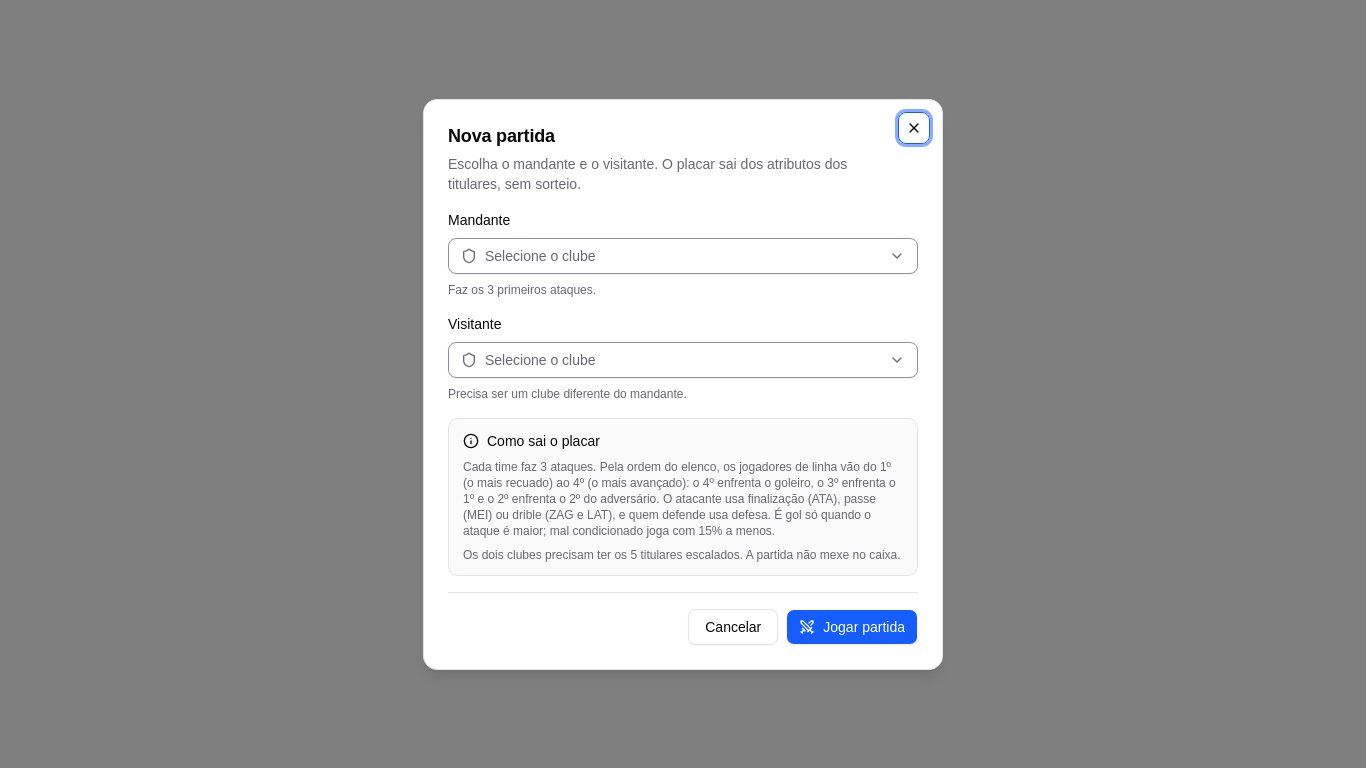
NewMatchDialog › marca só o mandante quando a escalação dele está incompleta
Click the dropdown named "Mandante".
click(540, 256)  # box [448,238,918,274]
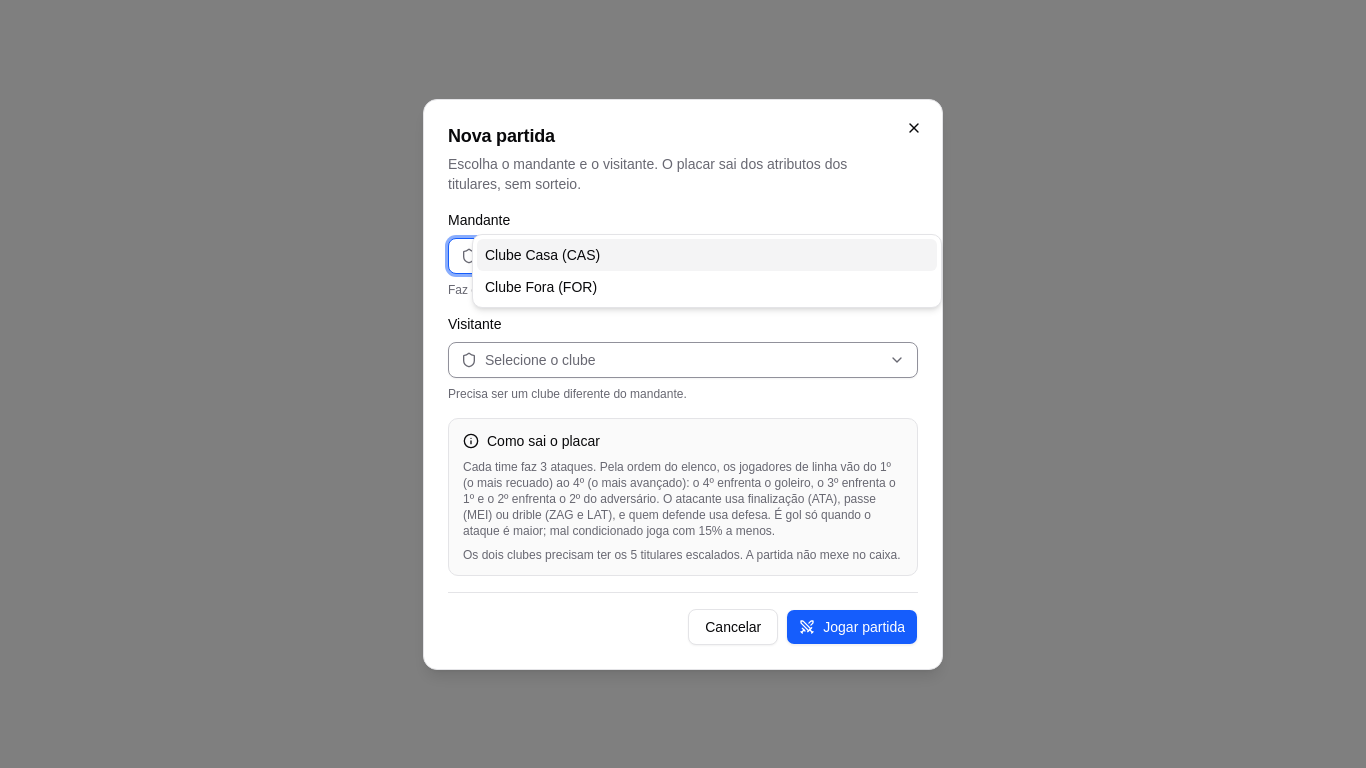
Click the option "Clube Casa (CAS)".
click(522, 254)  # box [477,238,937,270]
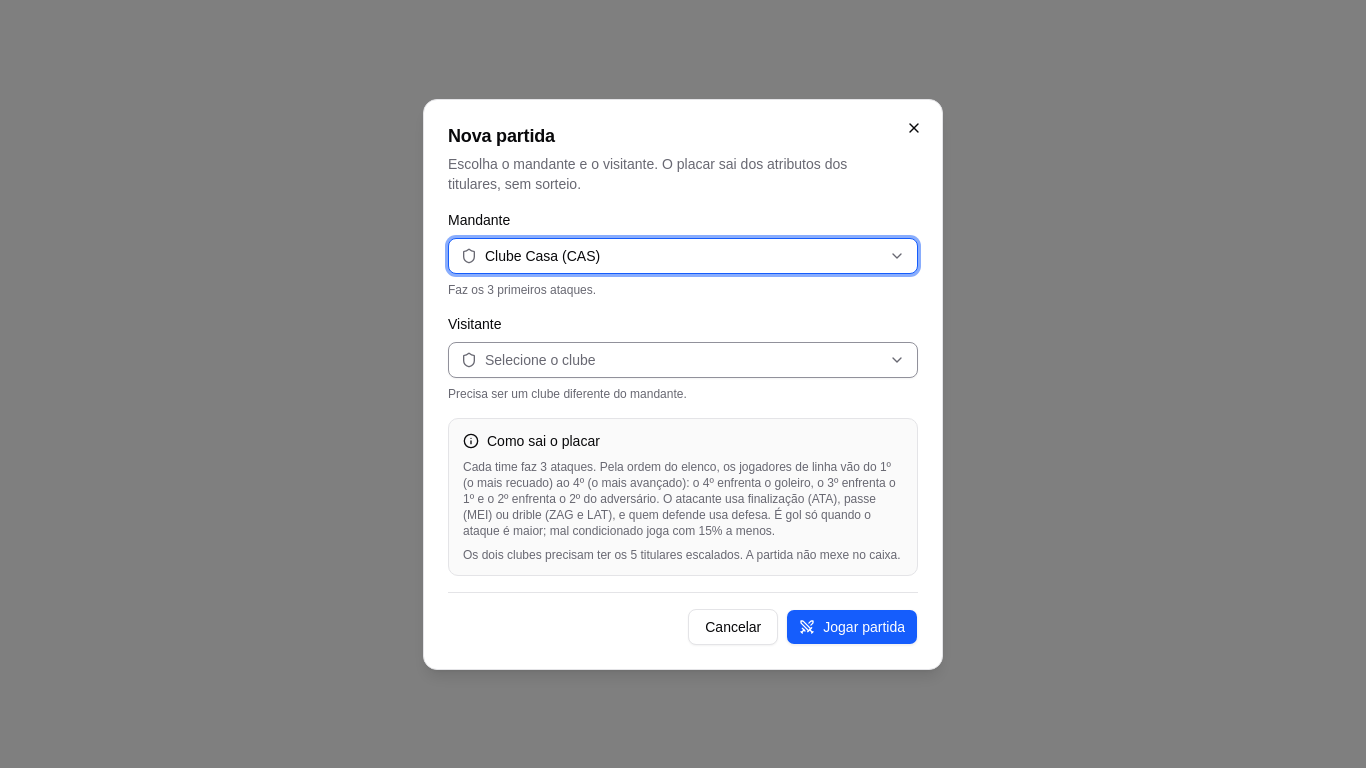
Click the dropdown named "Visitante".
click(540, 360)  # box [448,342,918,378]
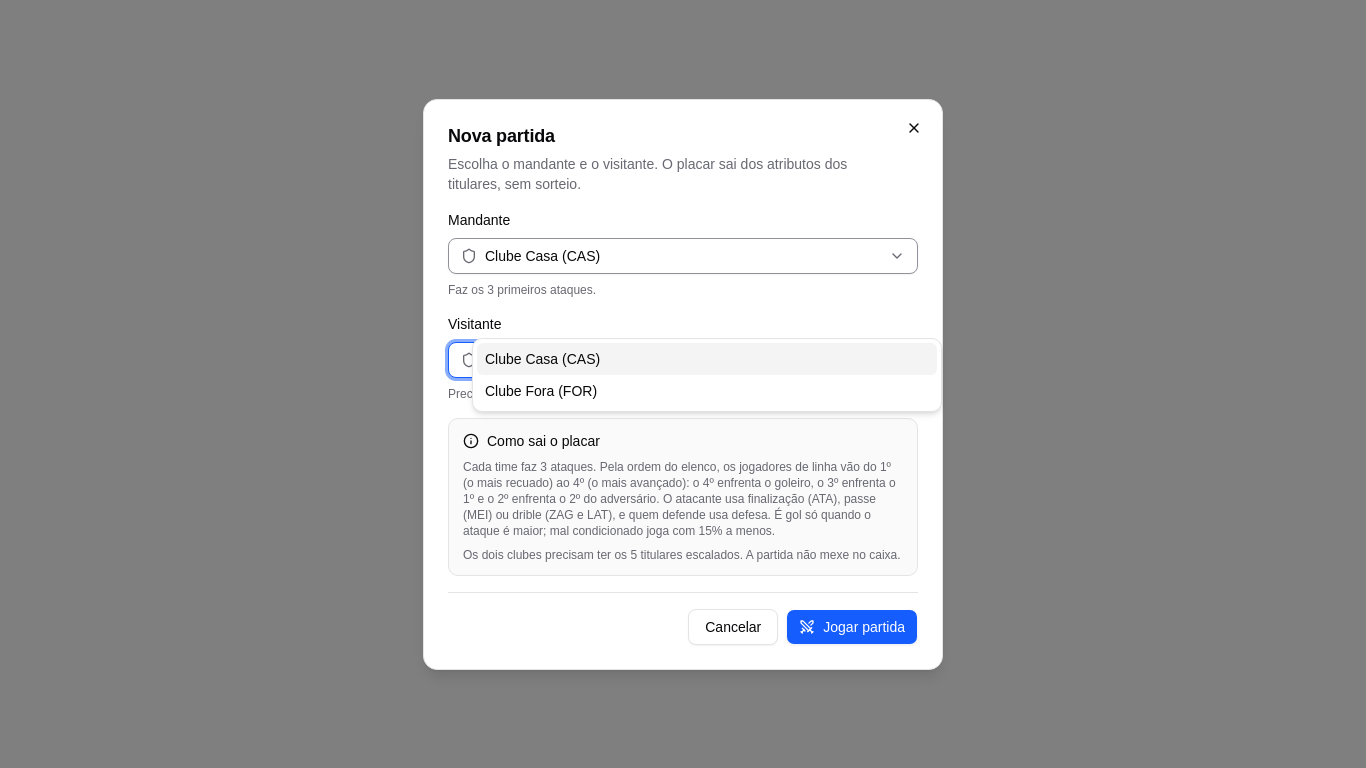
Click the option "Clube Fora (FOR)".
click(541, 390)  # box [485,382,597,398]
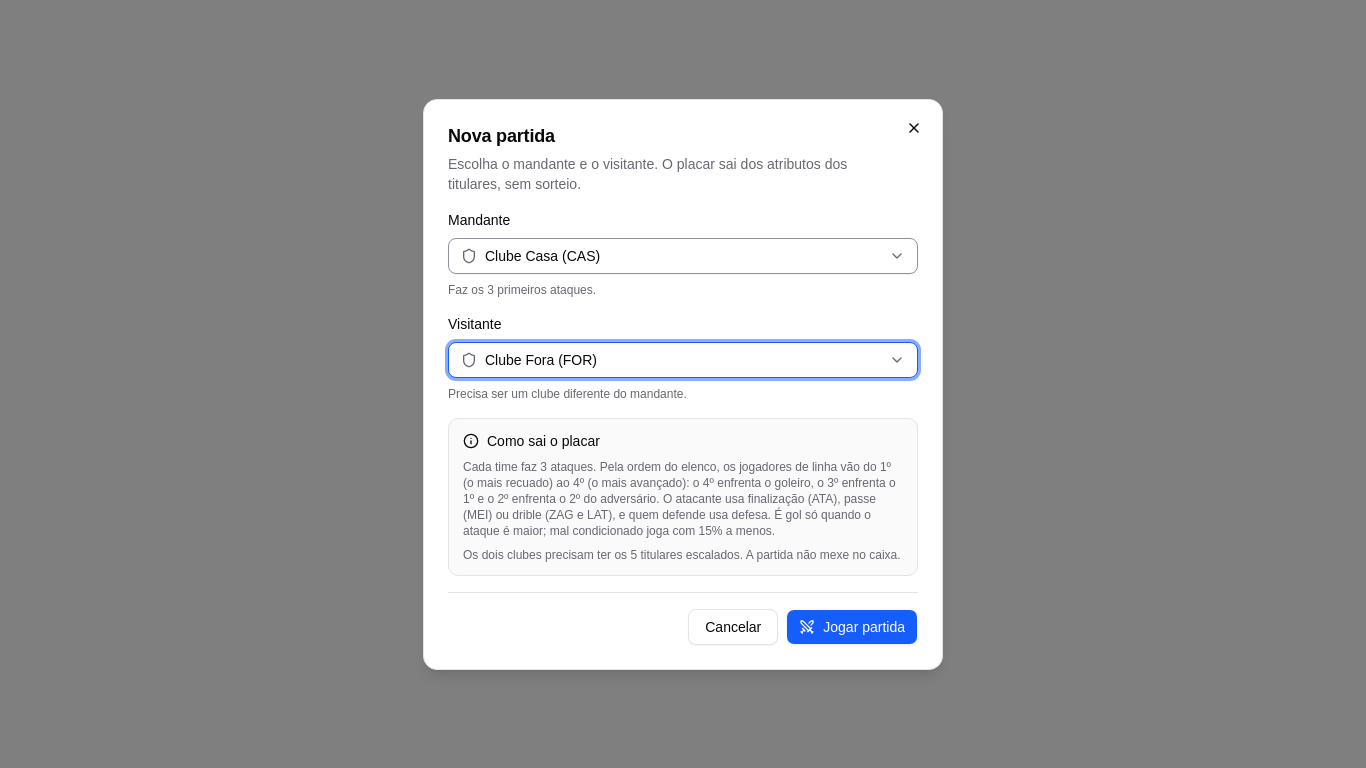
Click the button "Jogar partida".
click(852, 626)  # box [786,608,918,644]
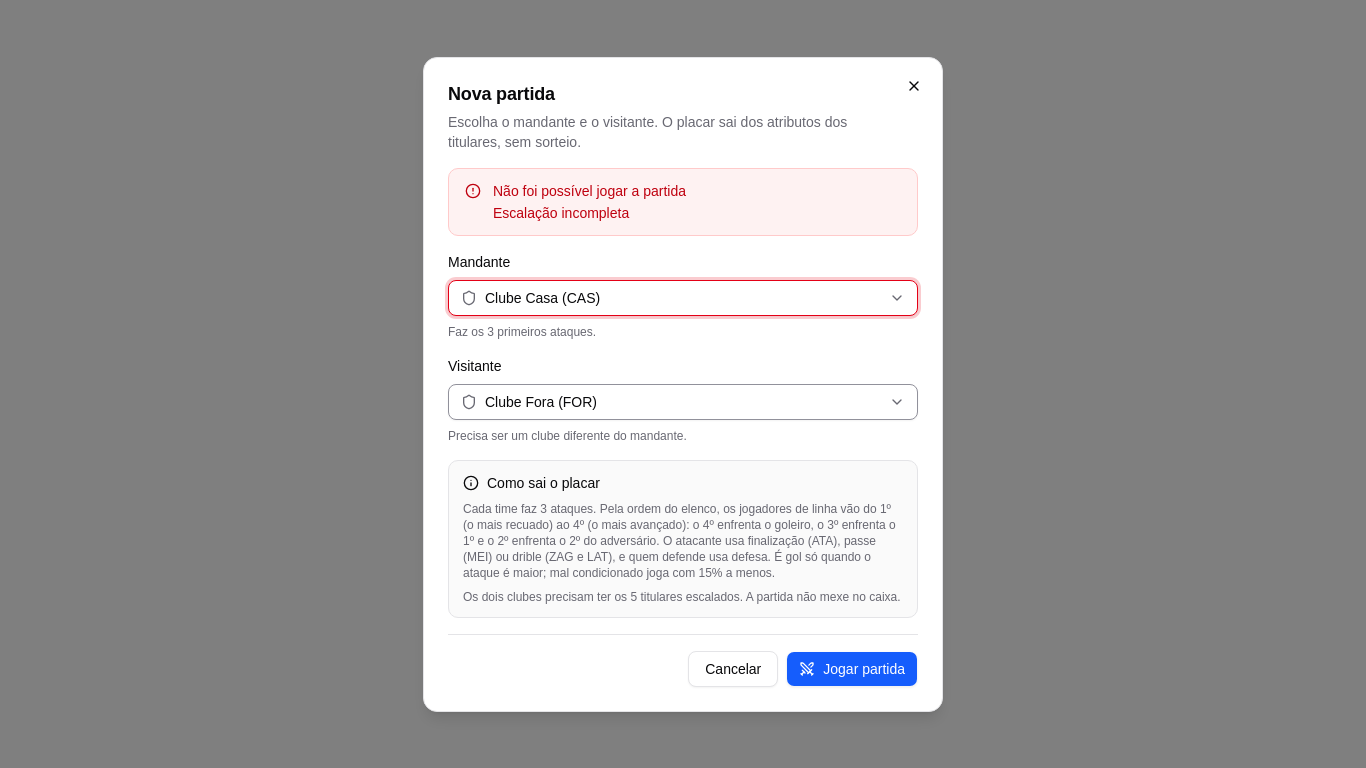
Now the text "Não foi possível jogar a partida" is shown, box [493,182,686,198]
Now the text "Escalação incompleta" is shown, box [493,204,629,220]
